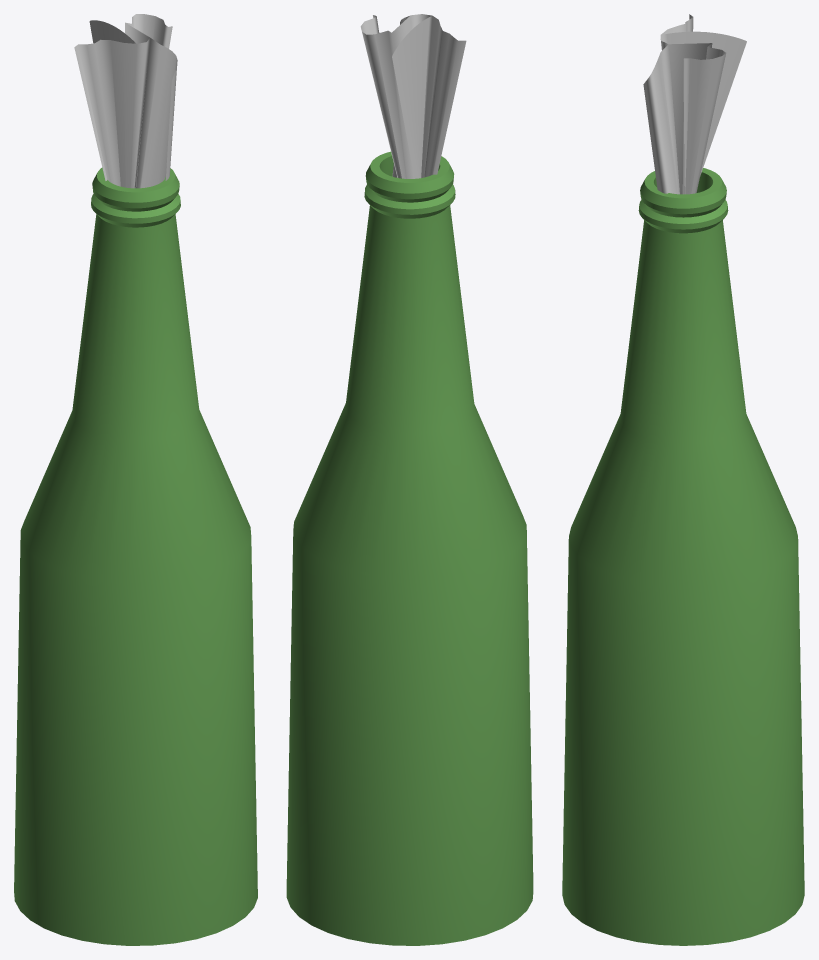
Rendered from Bottle.fbx.
The picture shows the model from 3 angles, left to right: view 1: azimuth 30°, elevation 25°; view 2: azimuth 150°, elevation 25°; view 3: azimuth 270°, elevation 25°; orthographic projection. The views are drawn at different scales.
Parts seen in each view (by area): view 1: Cylinder.001, Plane; view 2: Cylinder.001, Plane; view 3: Cylinder.001, Plane.
Boxes of the visible parts, x1,y1,x2,y2 form: Cylinder.001: (14, 167, 257, 945); Plane: (74, 14, 177, 188); Cylinder.001: (286, 151, 533, 945); Plane: (360, 14, 466, 178); Cylinder.001: (562, 168, 804, 945); Plane: (643, 14, 746, 194).
Size of the model in its own units: 186 by 727 by 186.
